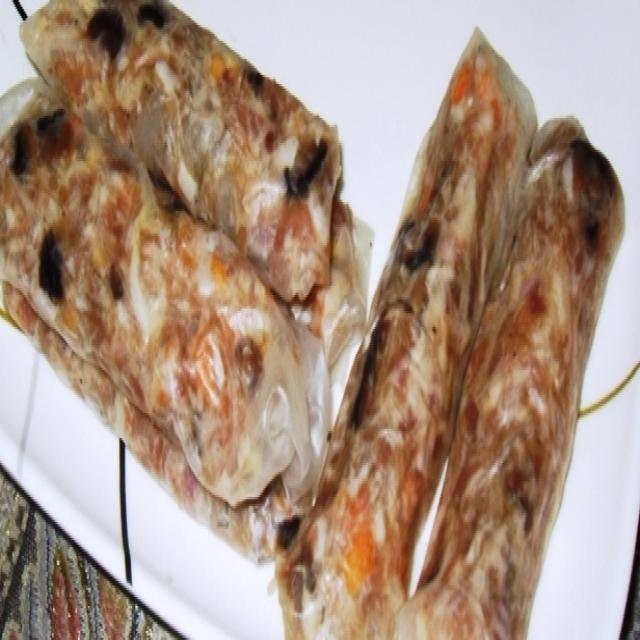炸货点心: (5, 9, 617, 611)
